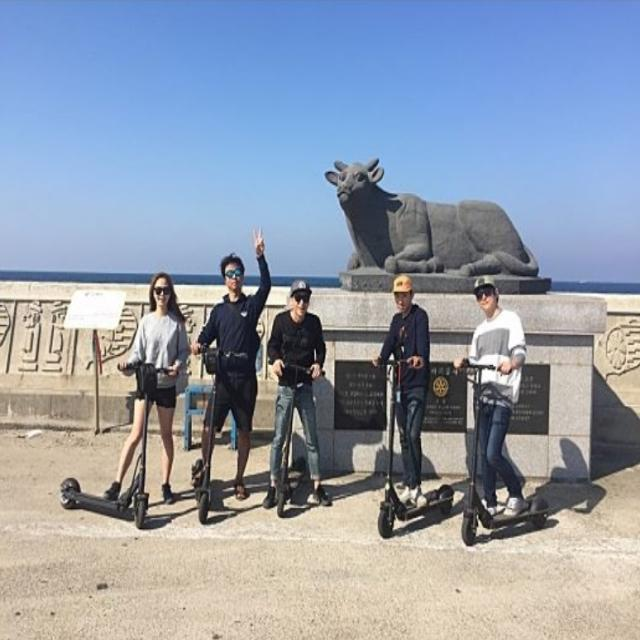non-helmet: (59, 243, 184, 531), (450, 247, 556, 555), (358, 253, 456, 546), (256, 260, 346, 525), (187, 221, 260, 532)
